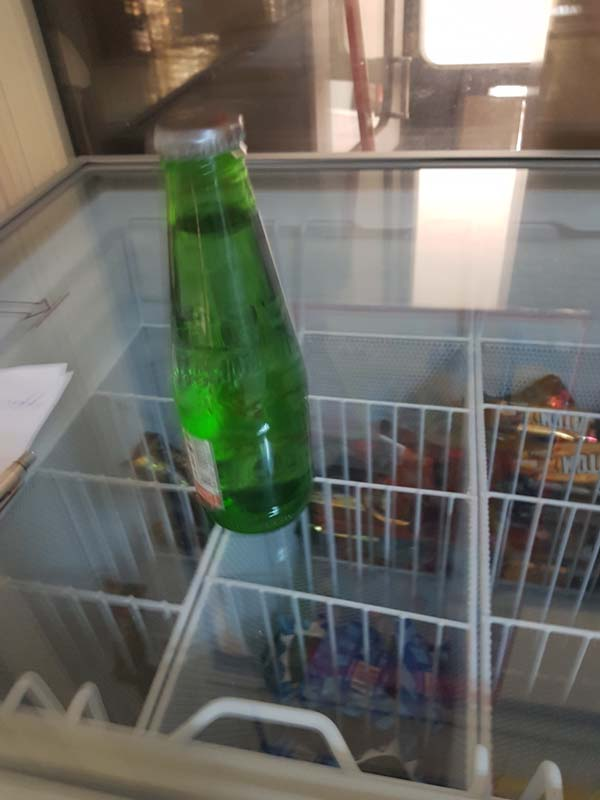beypazarimadensuyu: (145, 106, 320, 535)
